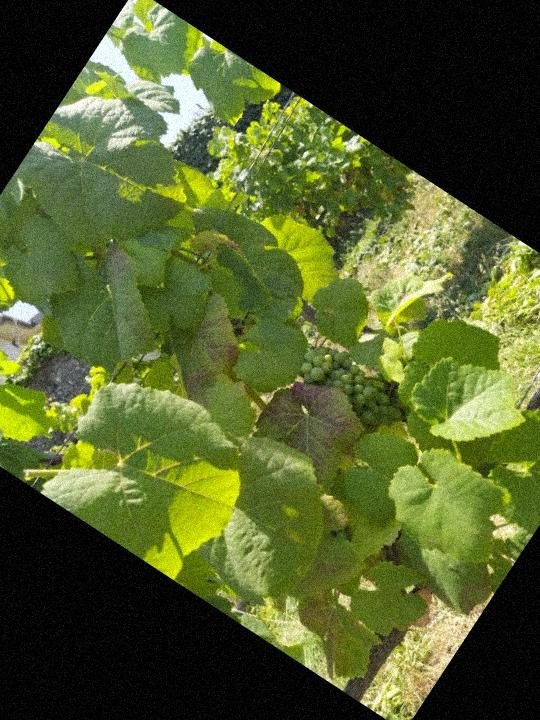grape: (286, 331, 417, 444)
